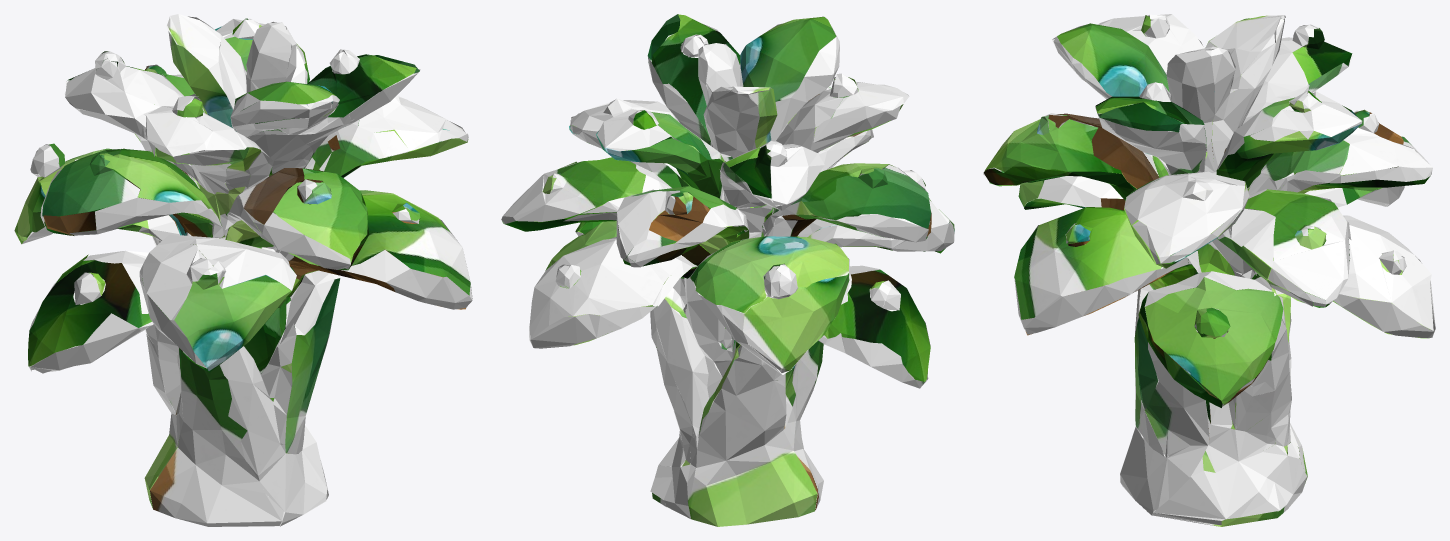
File: DewLeaf_mature.obj
The picture shows the model from 3 angles, left to right: view 1: azimuth 30°, elevation 25°; view 2: azimuth 150°, elevation 25°; view 3: azimuth 270°, elevation 25°; orthographic projection. The views are drawn at different scales.
Parts seen in each view (by area): view 1: DewLeaf_mature; view 2: DewLeaf_mature; view 3: DewLeaf_mature.
Boxes of the visible parts, x1,y1,x2,y2 form: DewLeaf_mature: [14, 14, 472, 526]; DewLeaf_mature: [501, 14, 954, 526]; DewLeaf_mature: [983, 14, 1435, 526].
Size of the model in its own units: 1.86 by 2.01 by 1.79.
